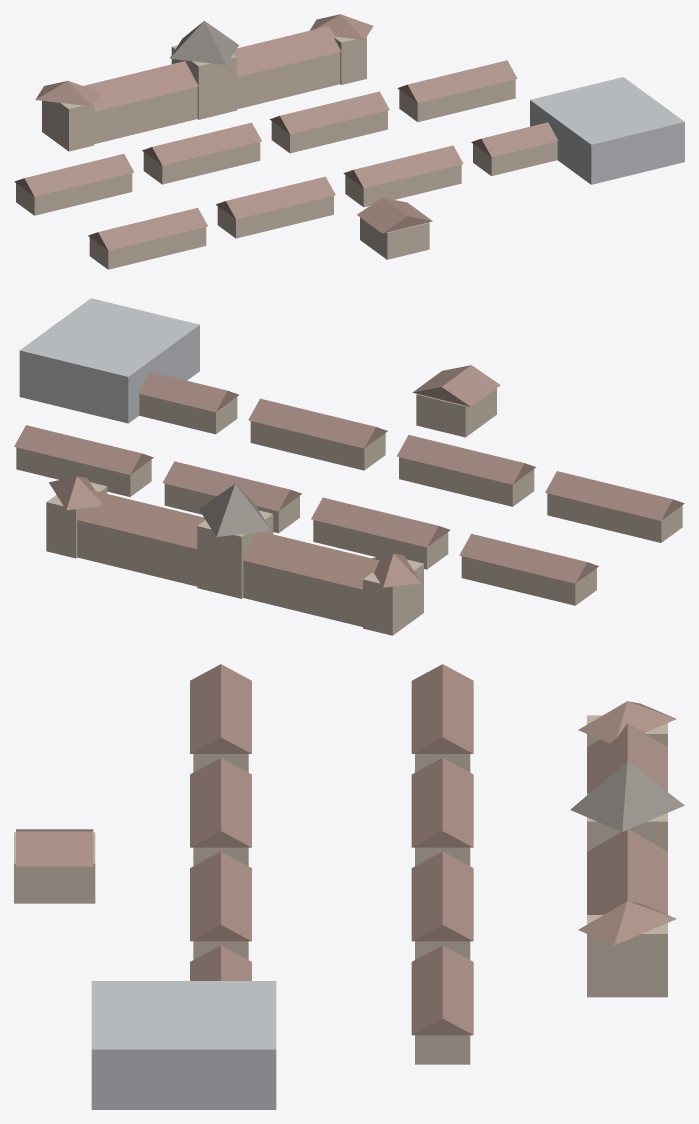
The model's file is basurto.glb.
3 views of the same model, one above another, from view 1: azimuth 30°, elevation 25°; view 2: azimuth 150°, elevation 25°; view 3: azimuth 270°, elevation 25° (orthographic). The views are drawn at different scales.
Bounding box in the file's own units: 255 × 38 × 182.
